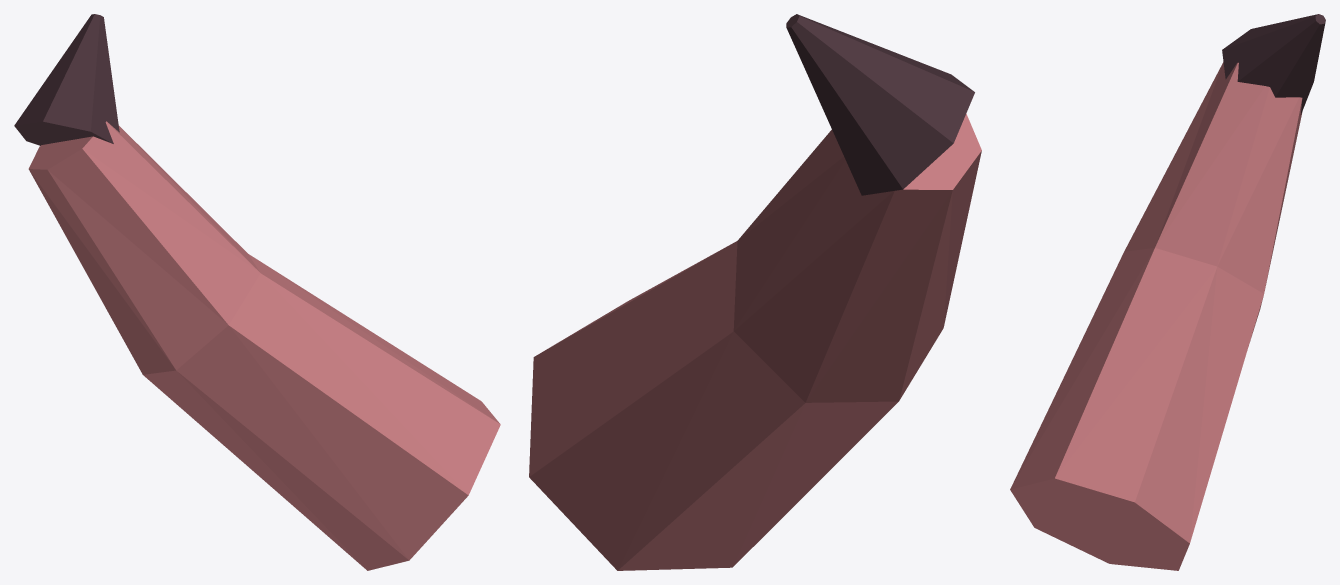
The model's file is bulbfreak_appendage_2.obj.
3 renders of one model, left to right at view 1: azimuth 30°, elevation 25°; view 2: azimuth 150°, elevation 25°; view 3: azimuth 270°, elevation 25°, orthographic. The views are drawn at different scales.
Parts seen in each view (by area): view 1: bulbfreak_appendage_2; view 2: bulbfreak_appendage_2; view 3: bulbfreak_appendage_2.
Part boxes in pixels (box(x1,y1,x2,y2)): bulbfreak_appendage_2: box(14, 14, 500, 570); bulbfreak_appendage_2: box(529, 14, 981, 570); bulbfreak_appendage_2: box(1010, 14, 1325, 570).
Bounding box in the file's own units: 0.6143 × 0.7872 × 0.4722.
